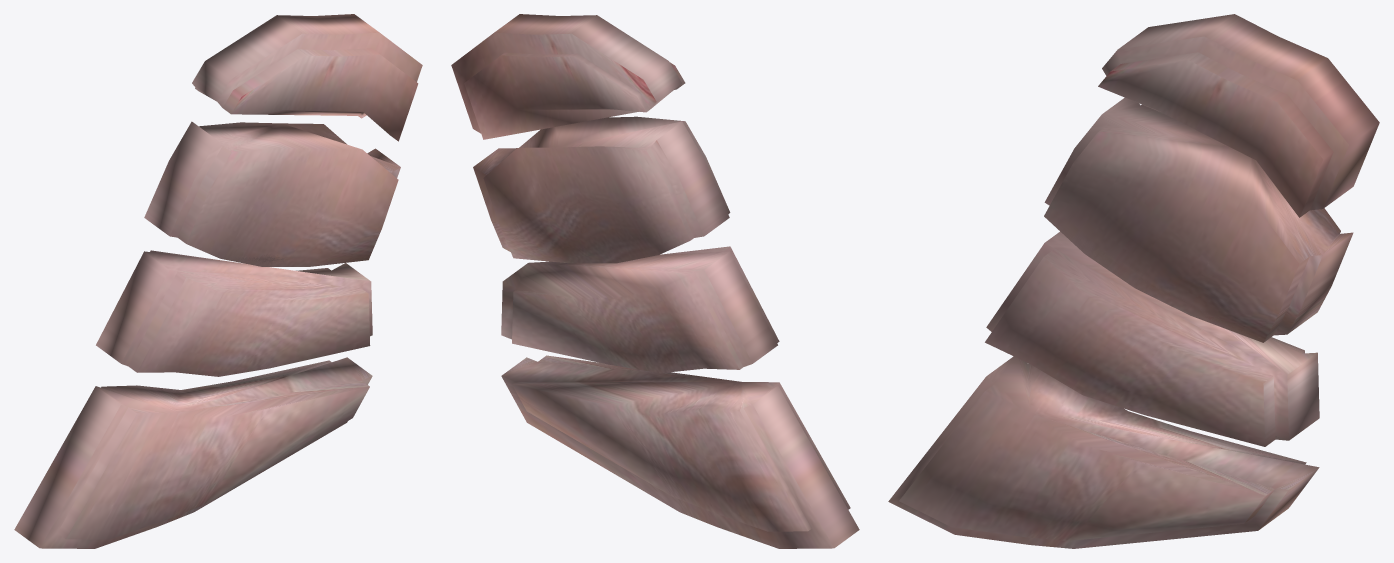
The model's file is dada ayam 3.fbx.
The picture shows the model from 3 angles, left to right: view 1: azimuth 30°, elevation 25°; view 2: azimuth 150°, elevation 25°; view 3: azimuth 330°, elevation 25°; orthographic projection. The views are drawn at different scales.
Parts seen in each view (by area): view 1: potongan 0003, potongan 003, potongan 3, potongan 03; view 2: potongan 0003, potongan 003, potongan 3, potongan 03; view 3: potongan 0003, potongan 003, potongan 3, potongan 03.
Part boxes in pixels (bbox=[...]): potongan 0003: bbox=[14, 357, 372, 548]; potongan 003: bbox=[144, 121, 400, 266]; potongan 3: bbox=[96, 250, 372, 376]; potongan 03: bbox=[192, 14, 422, 141]; potongan 0003: bbox=[501, 355, 859, 548]; potongan 003: bbox=[473, 116, 730, 263]; potongan 3: bbox=[501, 246, 779, 373]; potongan 03: bbox=[451, 14, 685, 139]; potongan 0003: bbox=[888, 356, 1319, 548]; potongan 003: bbox=[1044, 97, 1353, 342]; potongan 3: bbox=[985, 231, 1319, 446]; potongan 03: bbox=[1098, 14, 1379, 217].
Bounding box in the file's own units: 277 × 321 × 47.24.
Materials: 1 (1 with a texture image).
